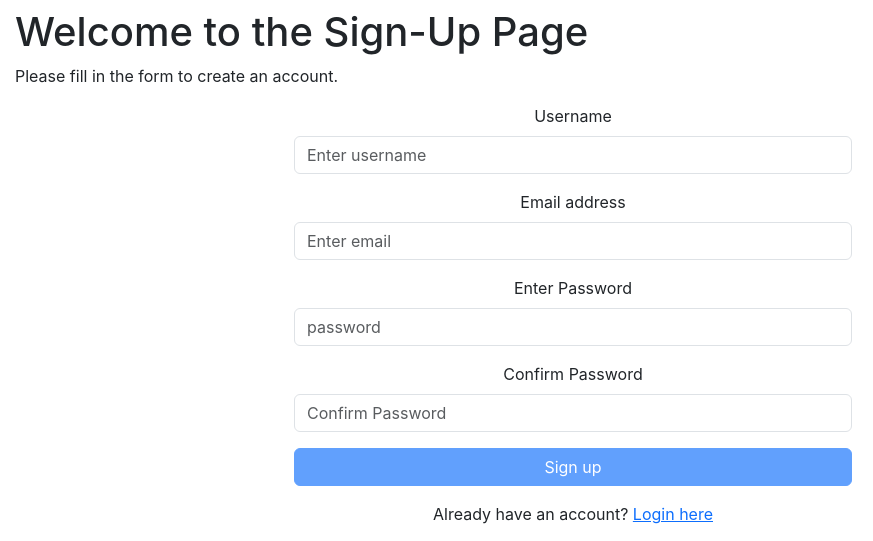
Scenario: Registration Page Email Validation › accepts a valid email address
Expected: the button "Sign up" is disabled, 294,448 -> 852,486
Type "testuser" into the field labelled "Username" at (573, 155), box 294,136 -> 852,174
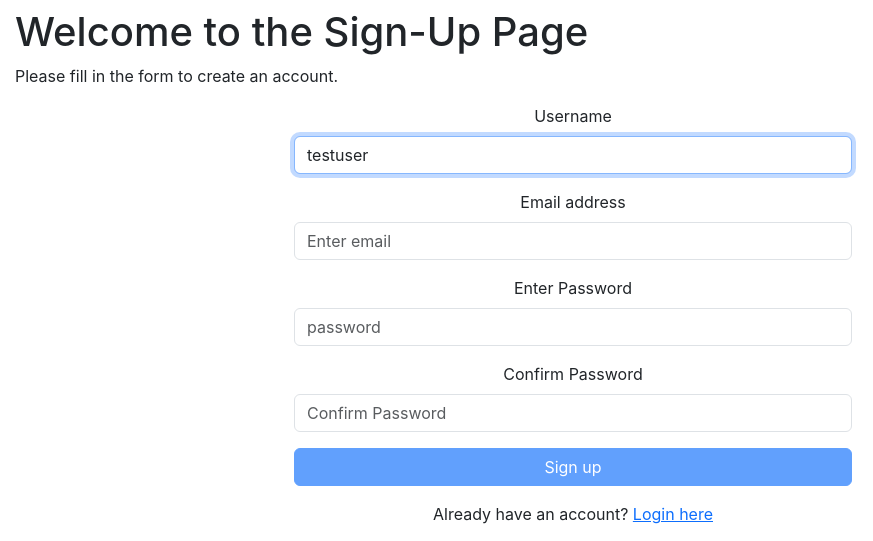
Type "test@example.com" into the field labelled "Email address" at (573, 241), box 294,222 -> 852,260
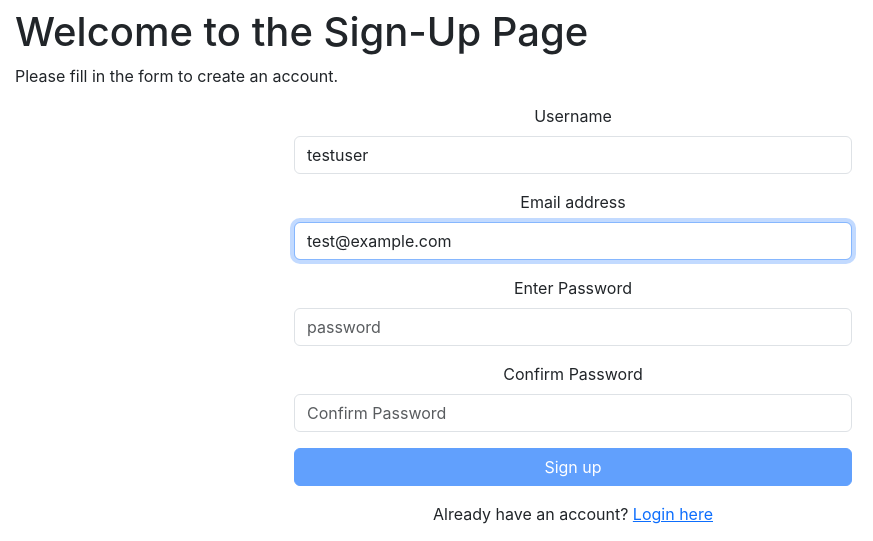
Type "Password123!" into the password field labelled "Enter Password" at (573, 327), box 294,308 -> 852,346
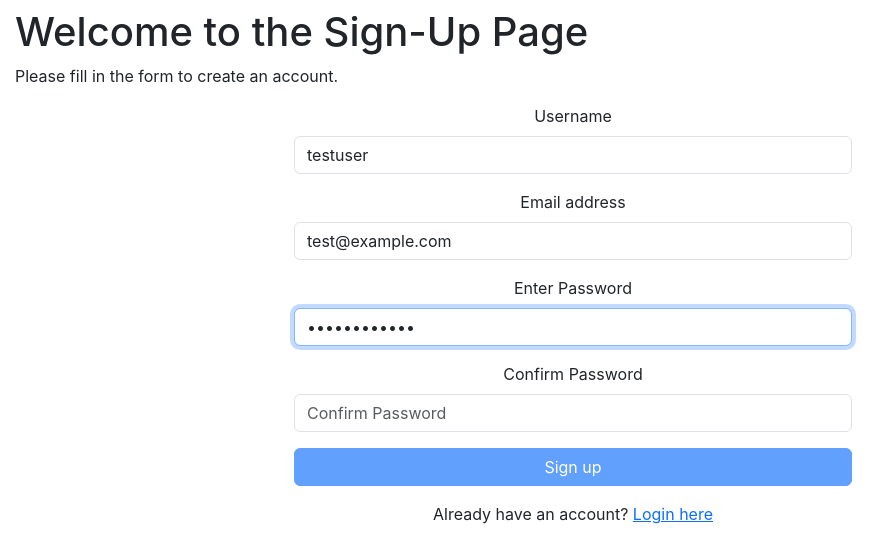
Type "Password123!" into the password field labelled "Confirm Password" at (573, 413), box 294,394 -> 852,432
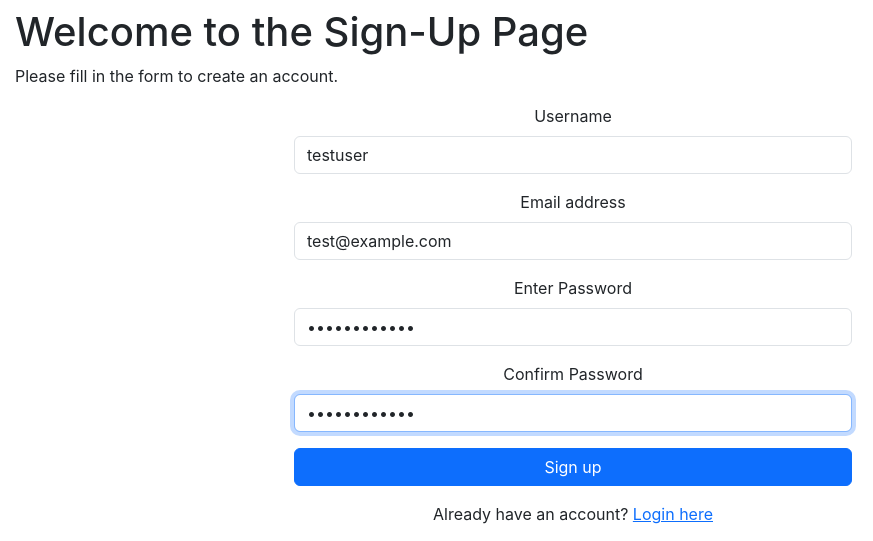
Expected: the button "Sign up" is enabled, 294,448 -> 852,486
